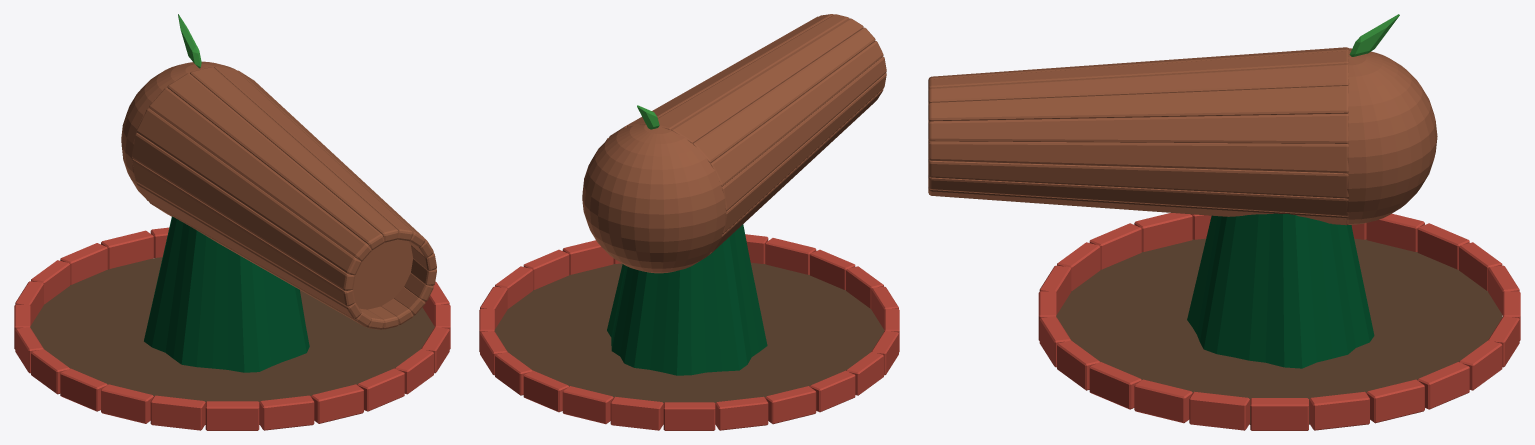
Rendered from cannon 1.fbx.
3 views of the same model, side by side, from view 1: azimuth 30°, elevation 25°; view 2: azimuth 150°, elevation 25°; view 3: azimuth 270°, elevation 25° (orthographic). The views are drawn at different scales.
Parts seen in each view (by area): view 1: Cube, Cylinder, Cube.002, Cylinder.001, Cube.001; view 2: Cube, Cylinder, Cube.002, Cylinder.001; view 3: Cube, Cylinder, Cube.002, Cylinder.001, Cube.001.
Part boxes in pixels (box(x1,y1,x2,y2)): Cube: box(121, 61, 436, 329); Cylinder: box(30, 257, 434, 424); Cube.002: box(14, 227, 450, 430); Cylinder.001: box(144, 216, 309, 372); Cube.001: box(178, 14, 201, 68); Cube: box(582, 14, 886, 273); Cylinder: box(494, 262, 884, 403); Cube.002: box(479, 234, 899, 430); Cylinder.001: box(607, 224, 767, 375); Cube: box(928, 47, 1437, 225); Cylinder: box(1056, 238, 1502, 424); Cube.002: box(1038, 213, 1520, 430); Cylinder.001: box(1187, 213, 1374, 368); Cube.001: box(1349, 14, 1399, 56).
Bounding box in the file's own units: 1636 × 1202 × 2010.
